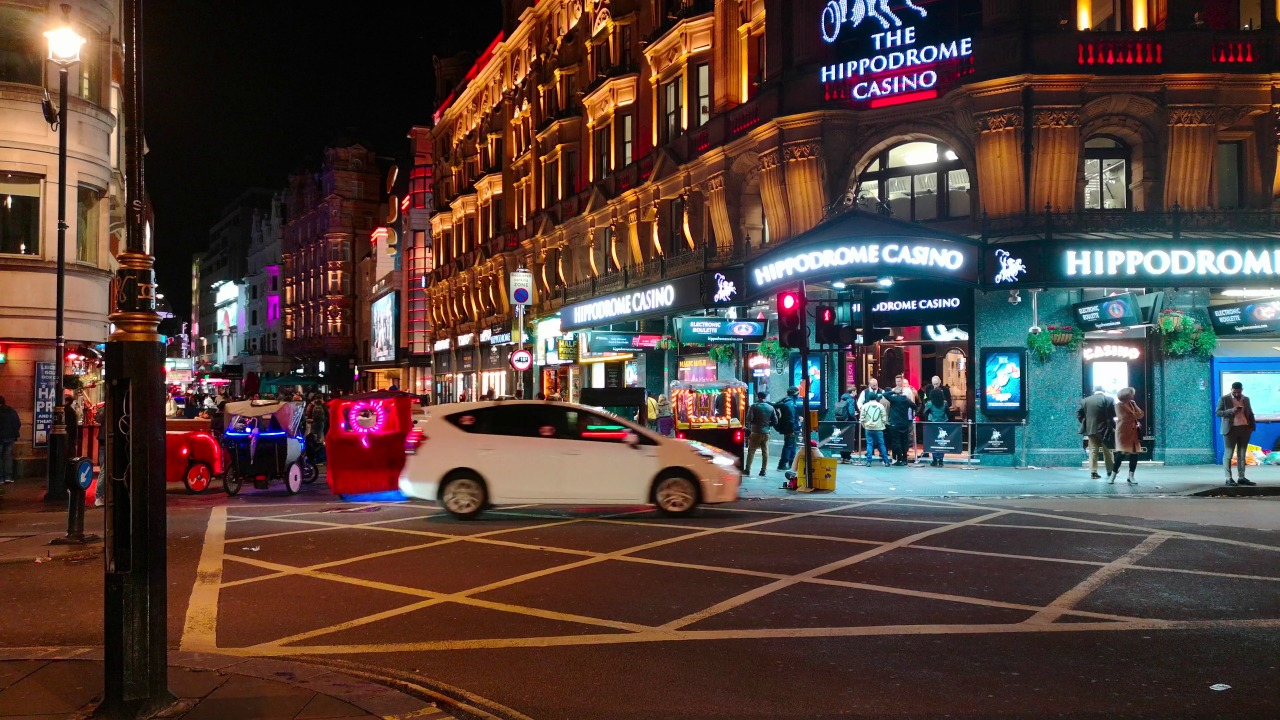car: (412, 412, 750, 525), (324, 396, 396, 485), (231, 405, 303, 493), (166, 423, 221, 489)
person: (1217, 379, 1261, 488), (1076, 385, 1113, 476), (1115, 387, 1142, 493), (889, 388, 916, 468), (863, 398, 890, 470), (925, 392, 951, 465), (797, 442, 827, 491), (777, 387, 793, 474), (838, 388, 854, 459), (93, 403, 103, 510), (755, 394, 766, 477), (926, 372, 948, 392), (861, 380, 880, 392), (895, 370, 907, 386)
